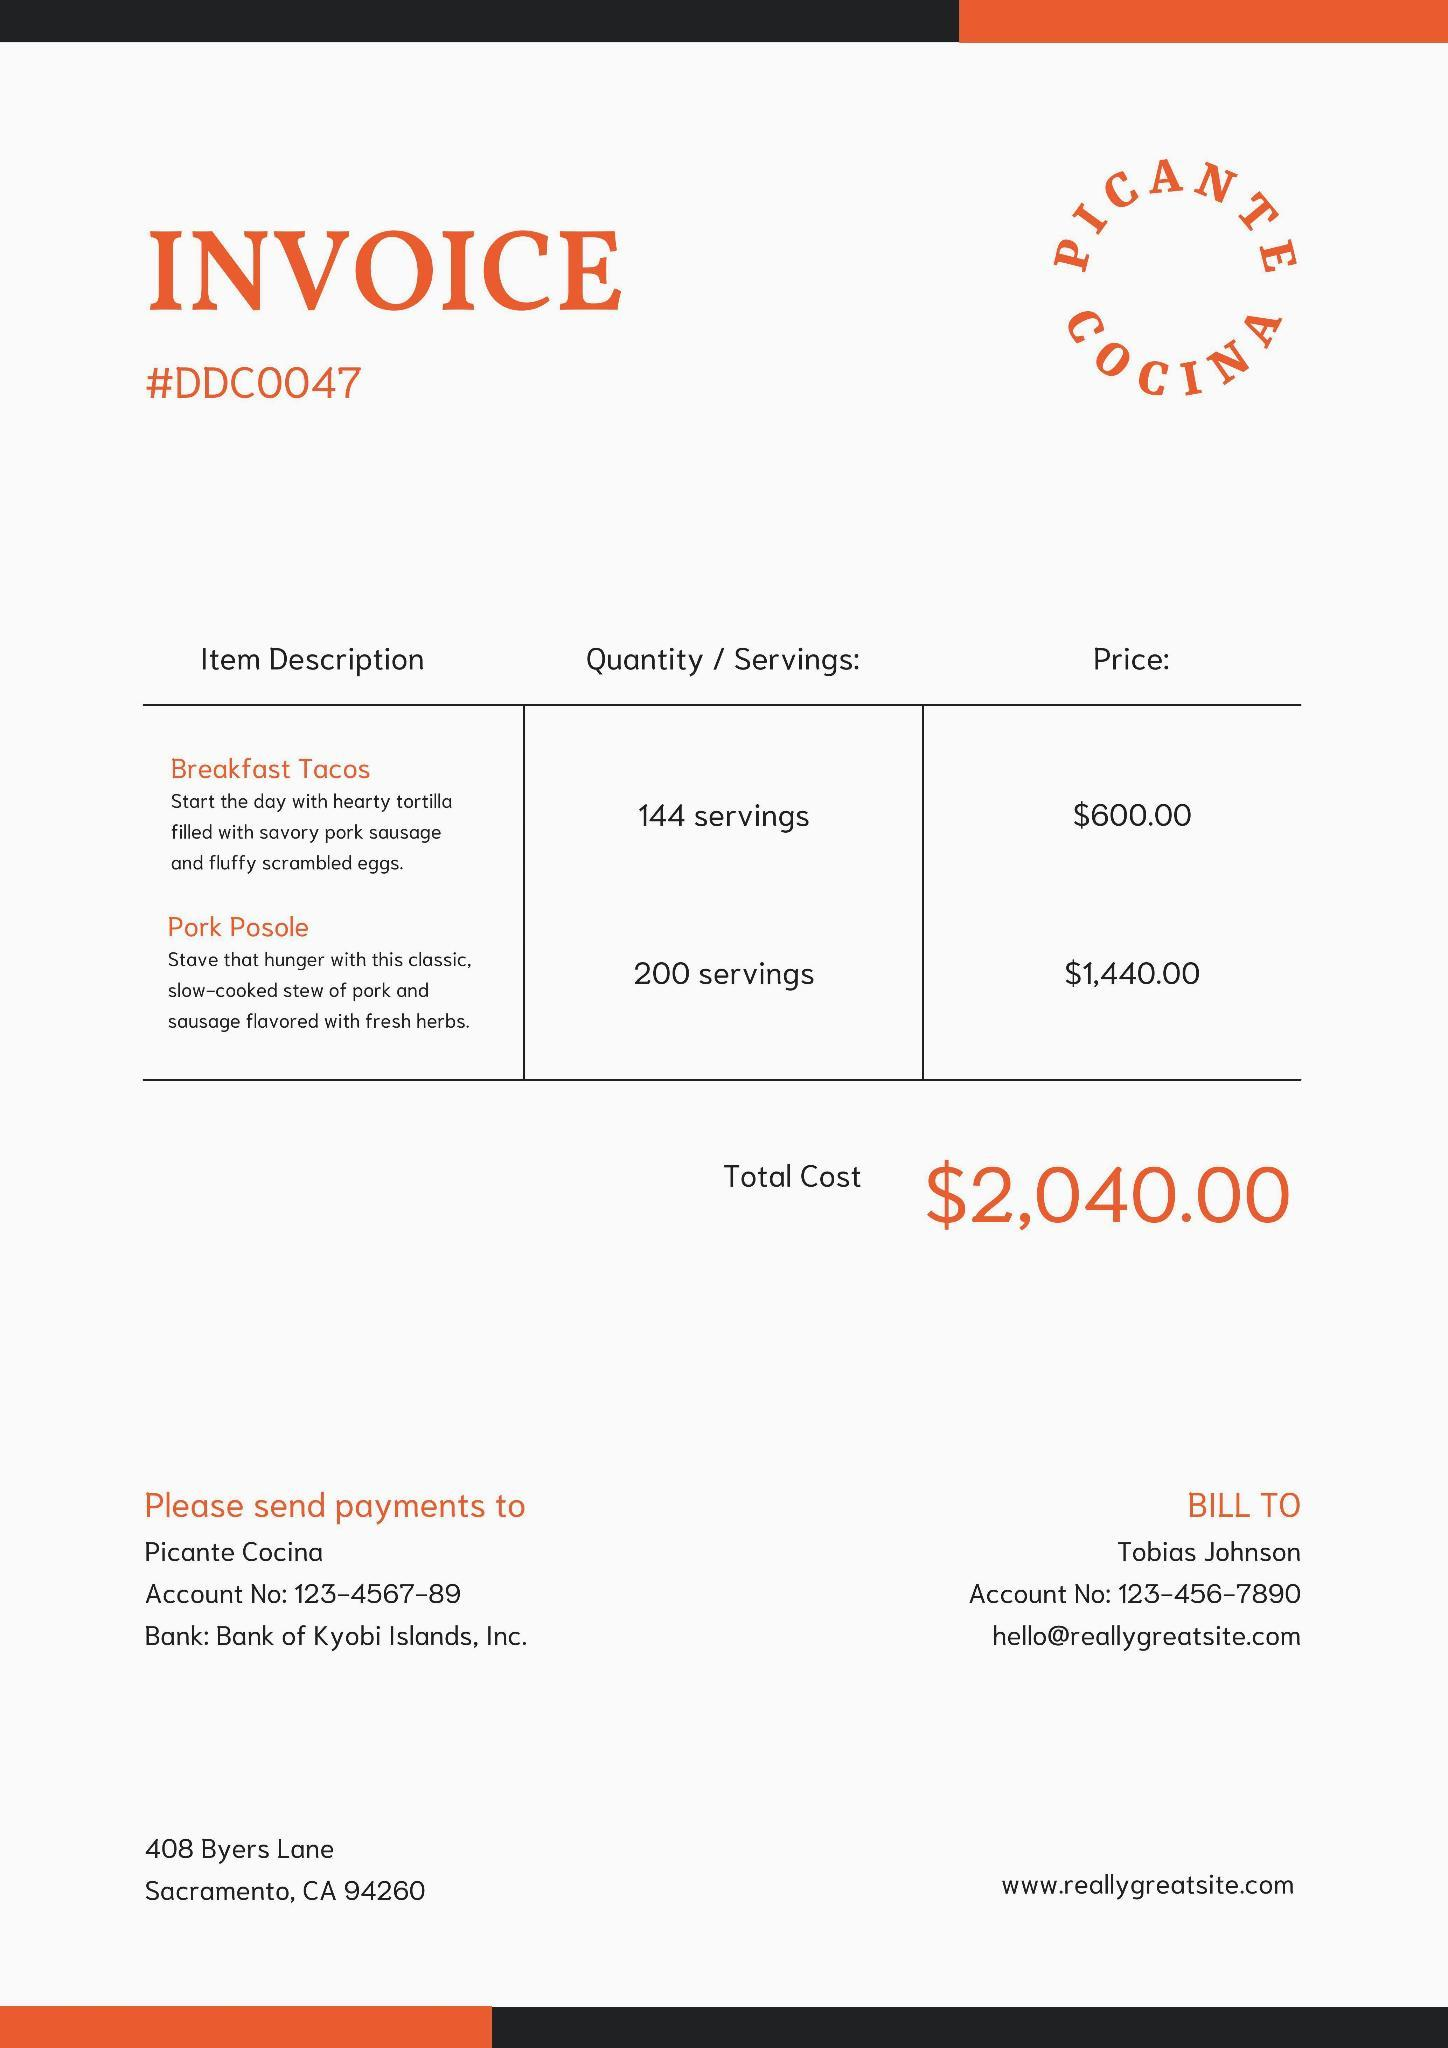ROI: (102, 607, 1348, 1071), (989, 99, 1324, 407), (103, 1458, 581, 1663), (943, 1430, 1329, 1665), (131, 201, 665, 362), (723, 1142, 1318, 1264), (131, 1808, 458, 1951), (999, 1853, 1301, 1917), (135, 365, 416, 423)
